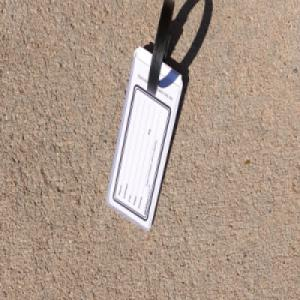LuggageTag: (104, 0, 183, 234)
